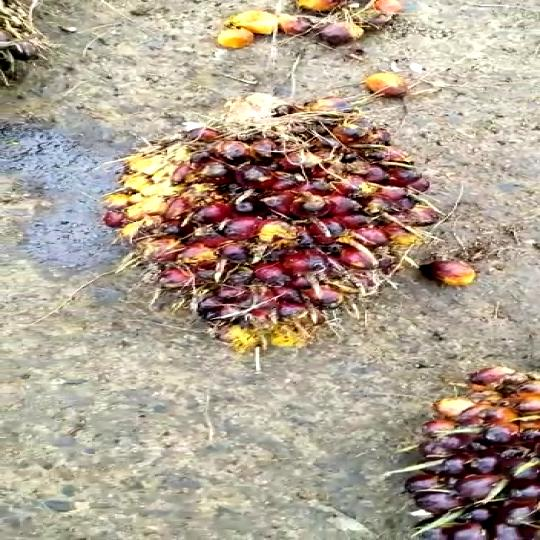kurang masak: (99, 76, 481, 347)
